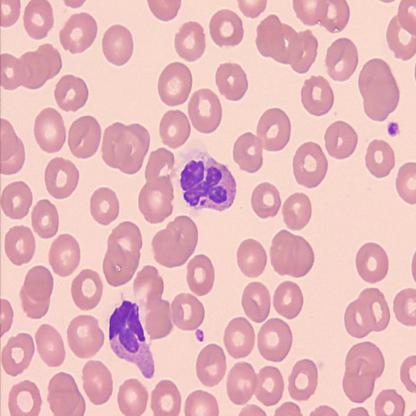Segmented neutrophil: (175, 148, 238, 216), (107, 297, 157, 381)
